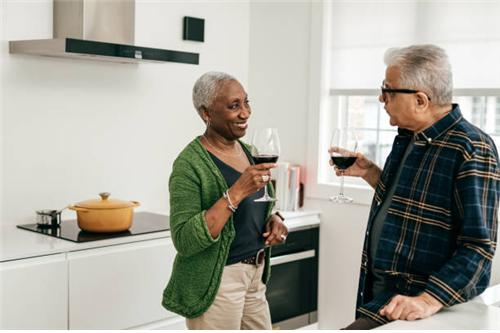alcohol: (329, 126, 358, 207), (252, 128, 281, 203)
